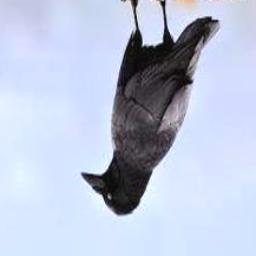Crow: (80, 0, 219, 218)
